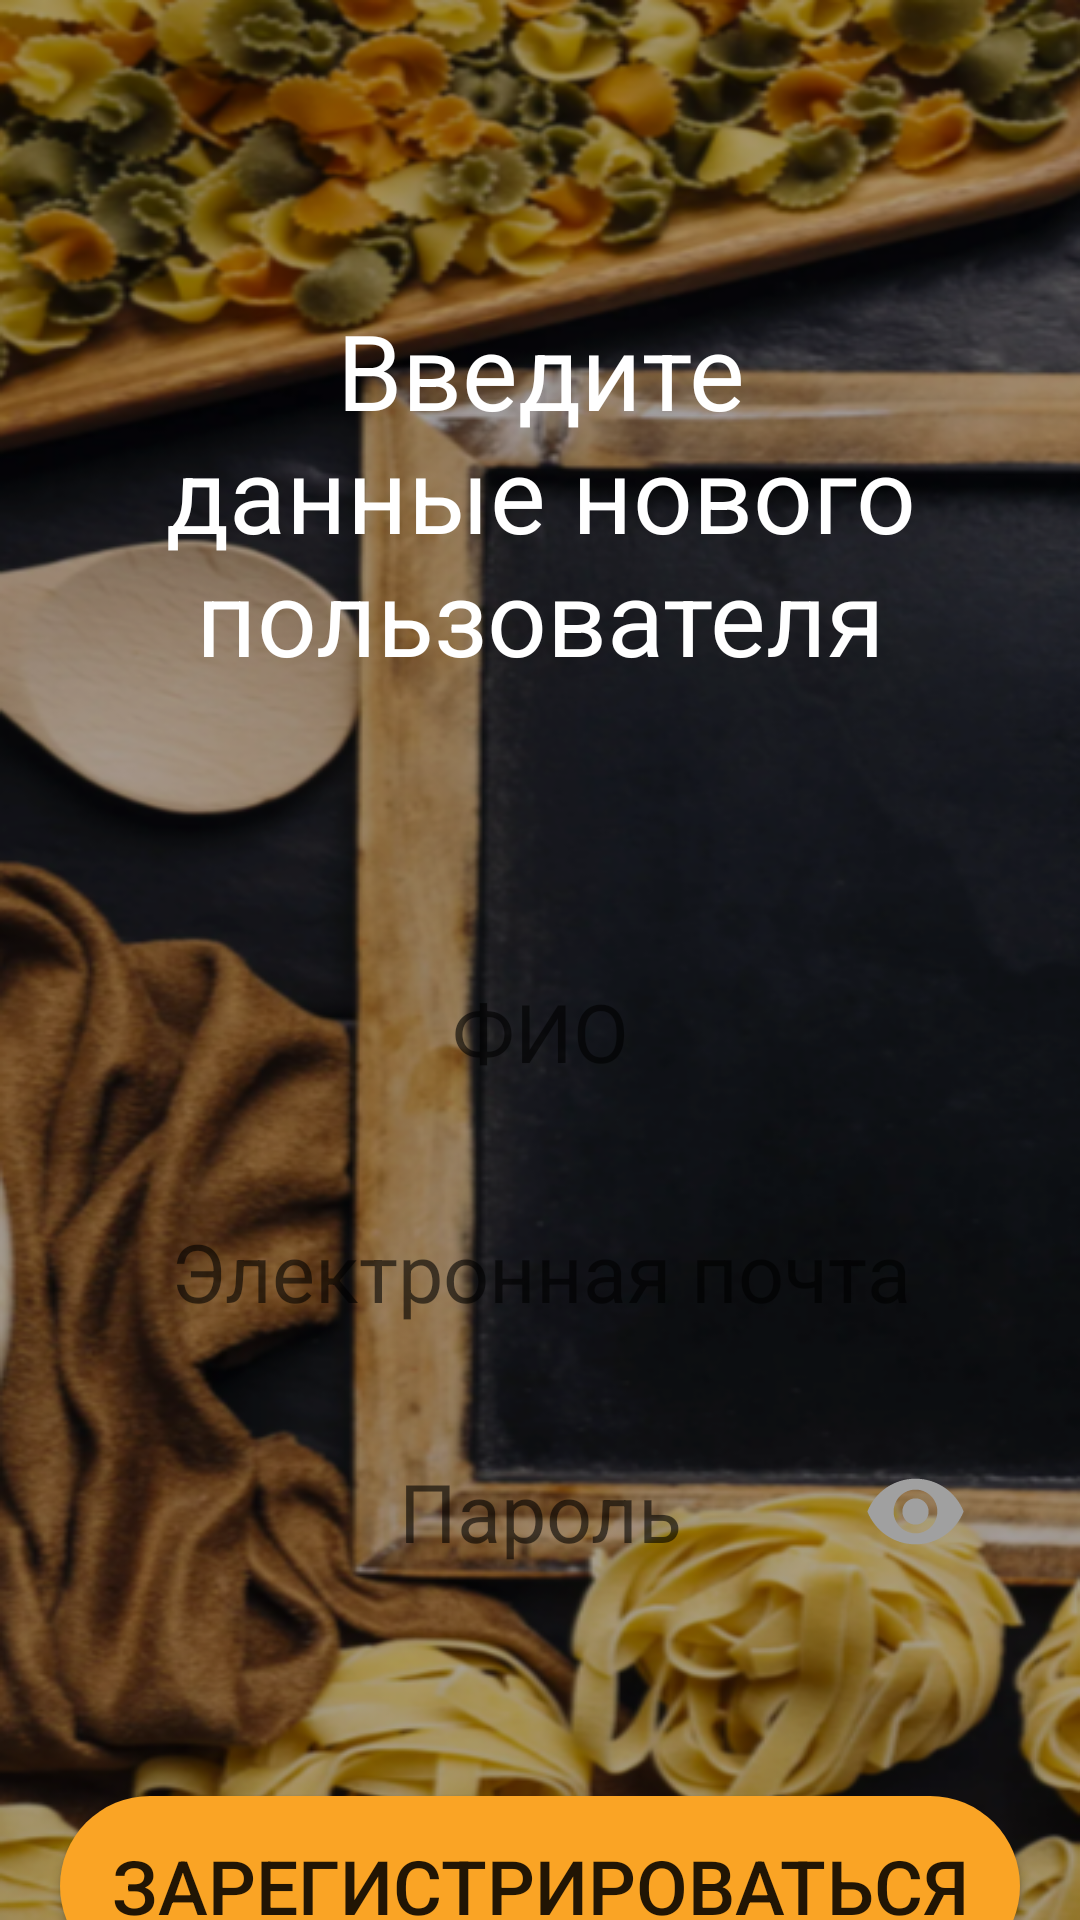

Where to tap for icons on this 1080x1920 app screen, as (x=x, y=y):
show password: (x=915, y=1511)
